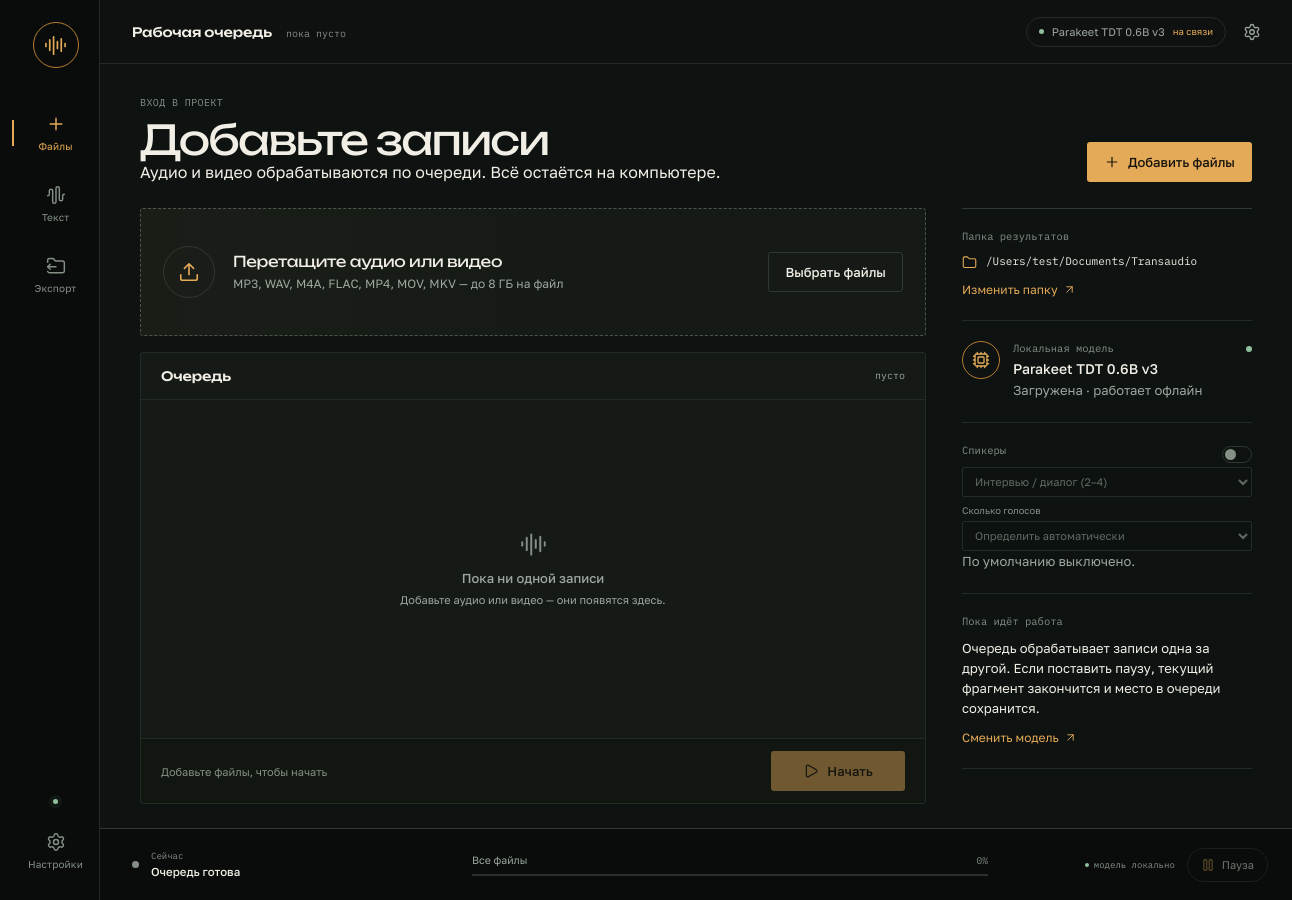
it: app shell › switches between the three workspaces
Expected: the navigation bar named "Основная навигация" is shown, left=12, top=102, right=99, bottom=306
Click the button with aria-label "Транскрипция". click: (56, 204)
box: left=12, top=173, right=99, bottom=235
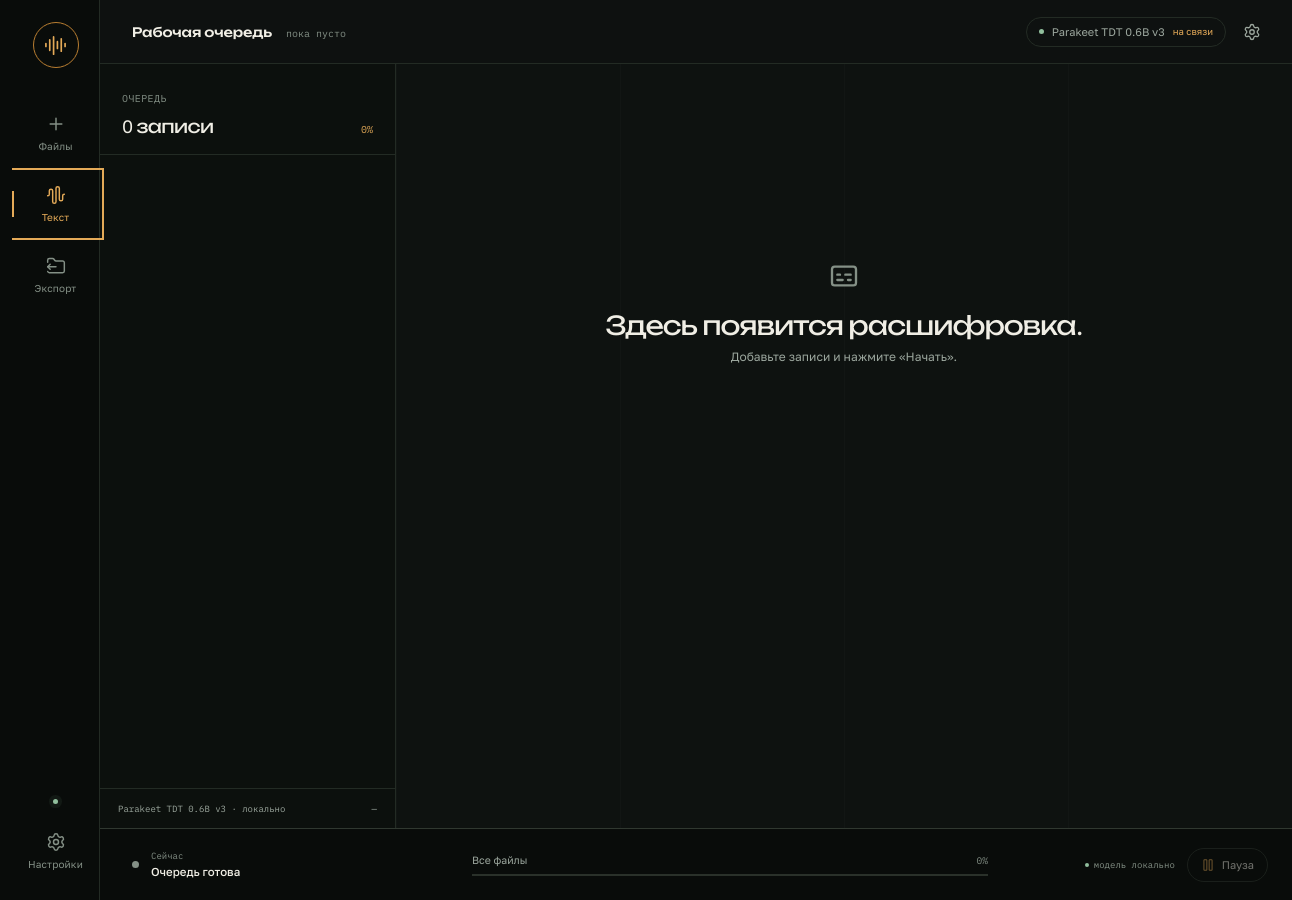
Result: the element named "Транскрипция" is shown
Click the button "Экспорт". click: (56, 275)
box: left=12, top=244, right=99, bottom=306
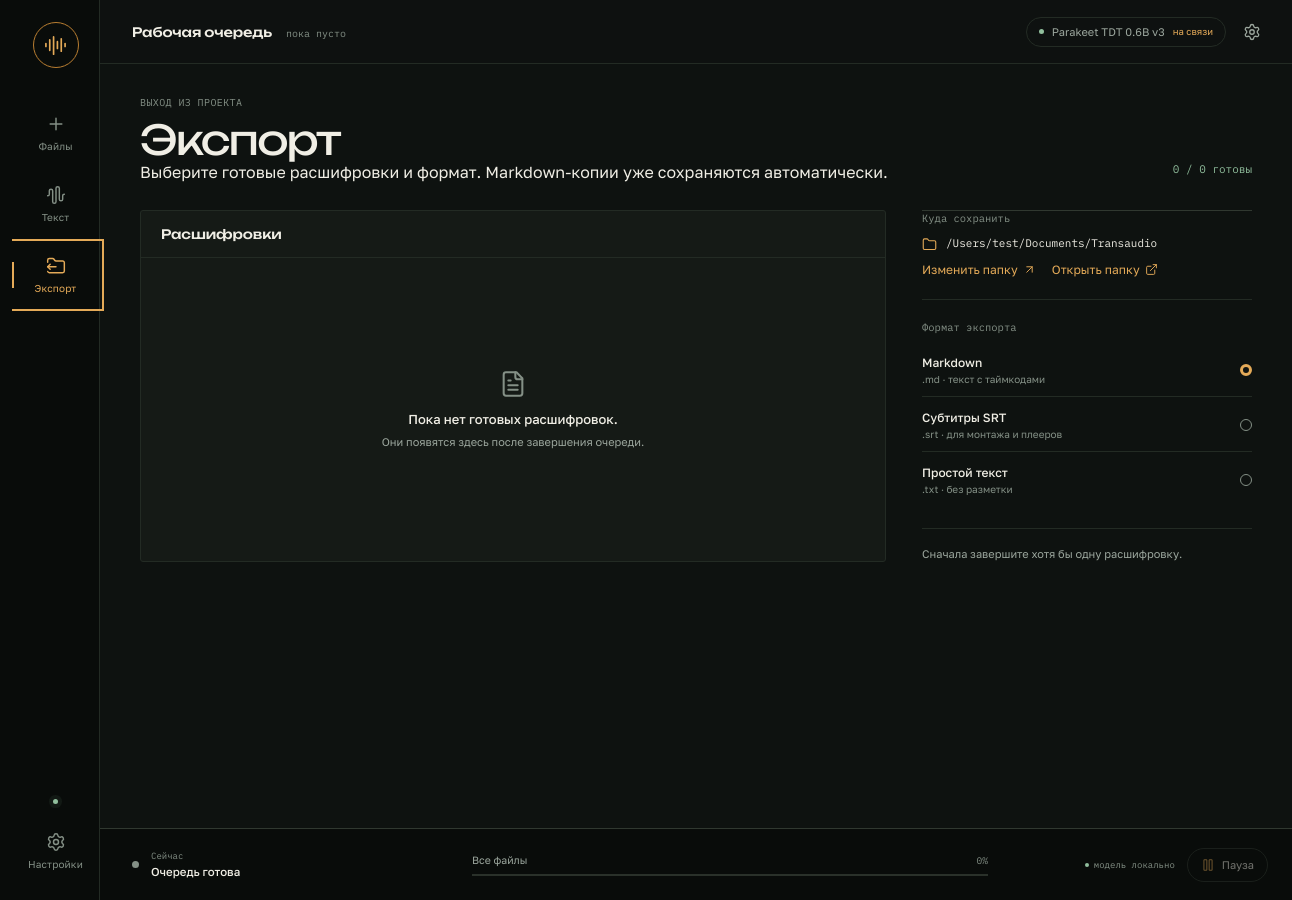
Result: the element "Экспорт" is shown
Click the button "Файлы". click: (56, 133)
box: left=12, top=102, right=99, bottom=164
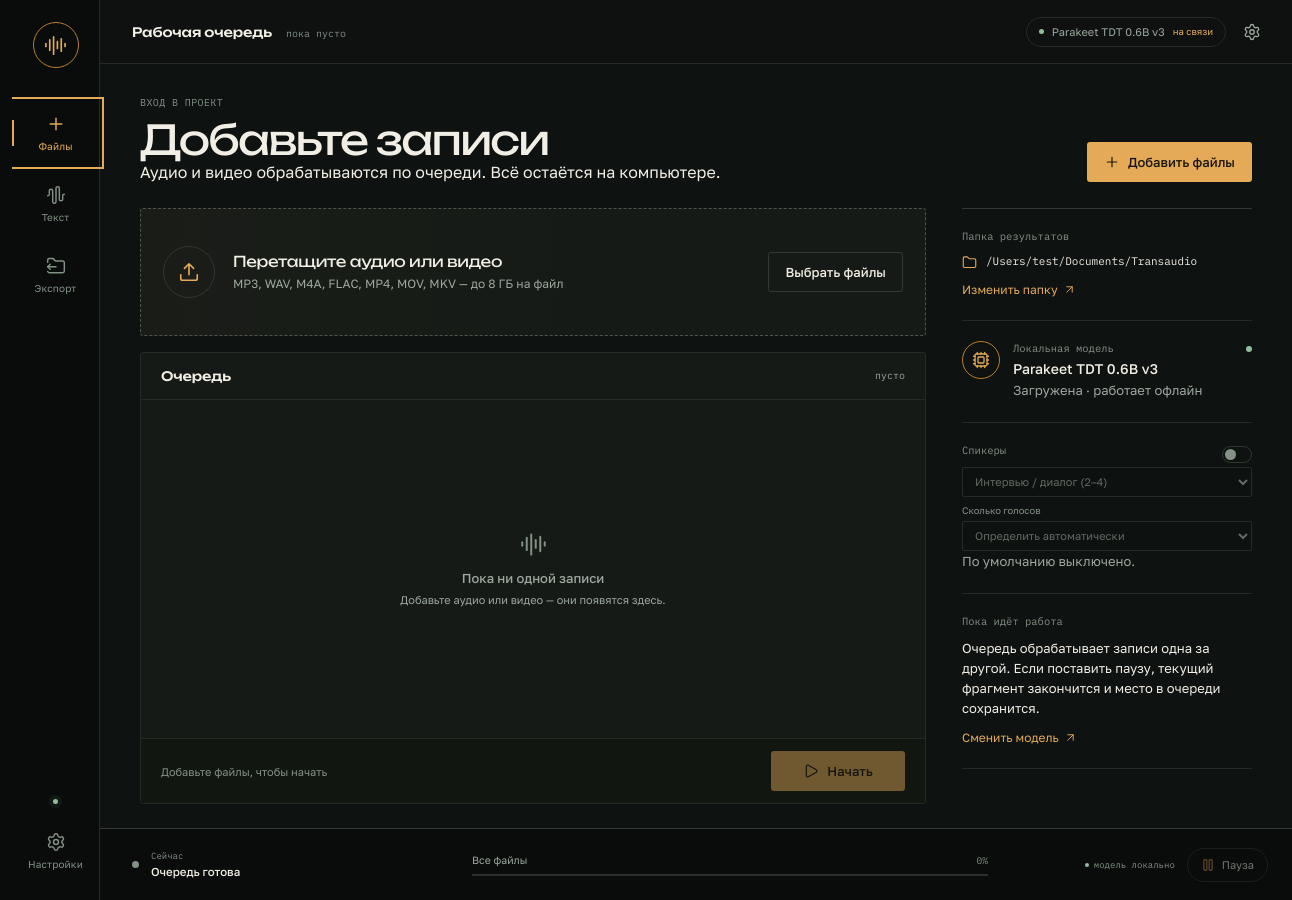
Result: the element named "Файлы" is shown
